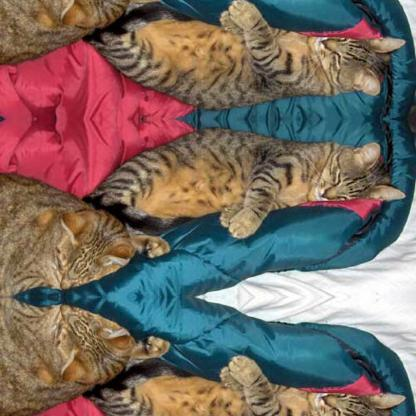Cat: (86, 126, 406, 238), (85, 0, 407, 111), (0, 172, 168, 294), (0, 298, 169, 415), (85, 354, 407, 415), (0, 0, 169, 65)
